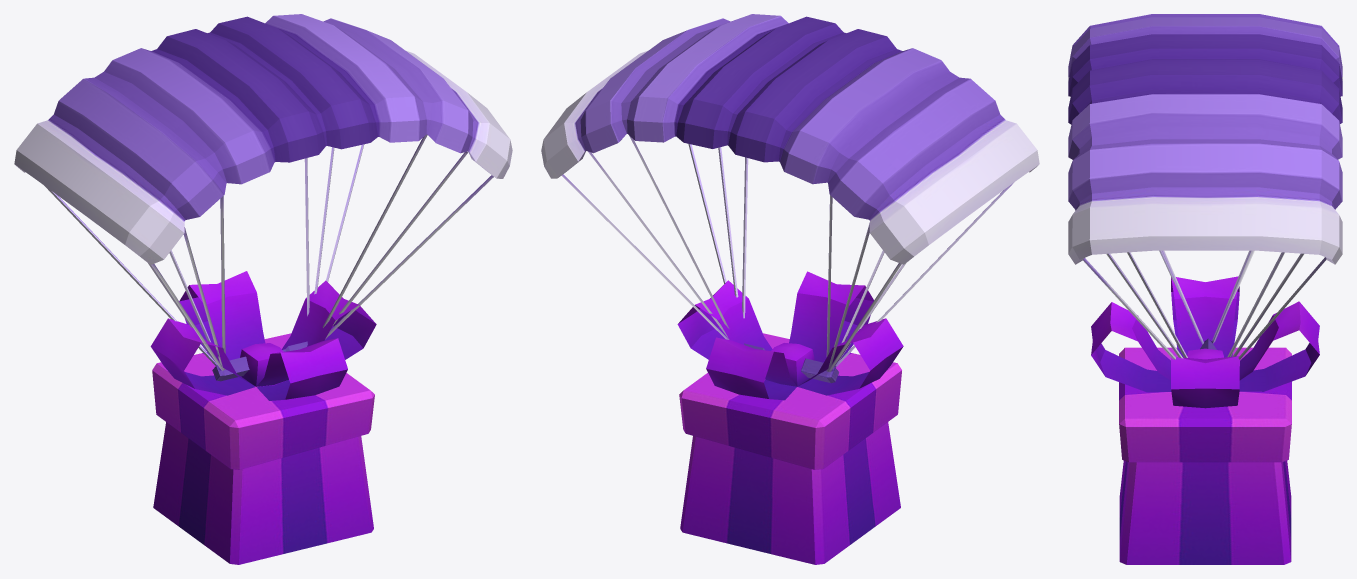
The model's file is care-package.glb.
The picture shows the model from 3 angles, left to right: view 1: azimuth 30°, elevation 25°; view 2: azimuth 150°, elevation 25°; view 3: azimuth 270°, elevation 25°; orthographic projection. The views are drawn at different scales.
Visible parts, largest first — view 1: care-package, present; view 2: care-package, present; view 3: care-package, present.
Boxes of the visible parts, box(x1,y1,x2,y2) form: care-package: box(14, 14, 512, 381); present: box(150, 271, 376, 564); care-package: box(541, 14, 1039, 383); present: box(677, 271, 903, 564); care-package: box(1068, 14, 1342, 359); present: box(1091, 276, 1319, 564).
Bounding box in the file's own units: 4.54 × 4.98 × 2.61.
2 materials, 2 textured.
